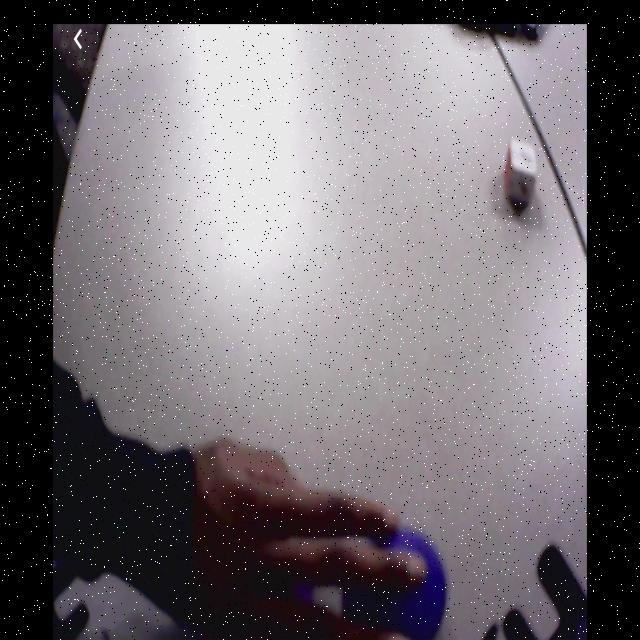ball: (346, 530, 447, 638)
